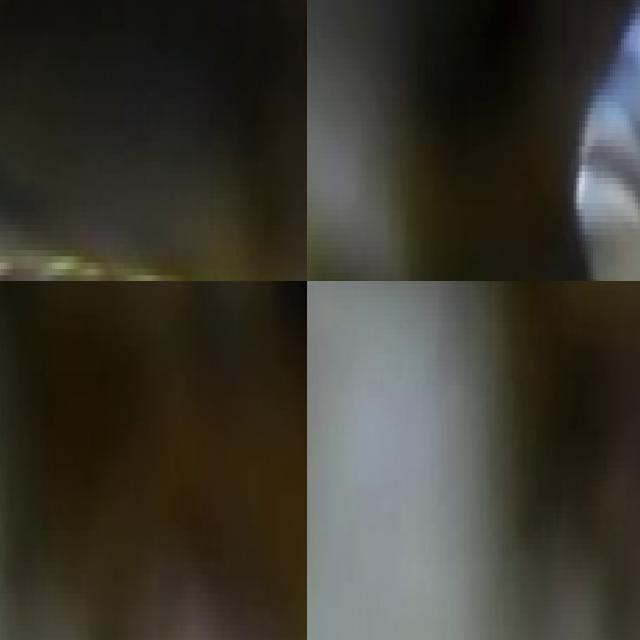fish: (0, 0, 307, 281), (391, 281, 640, 563)
